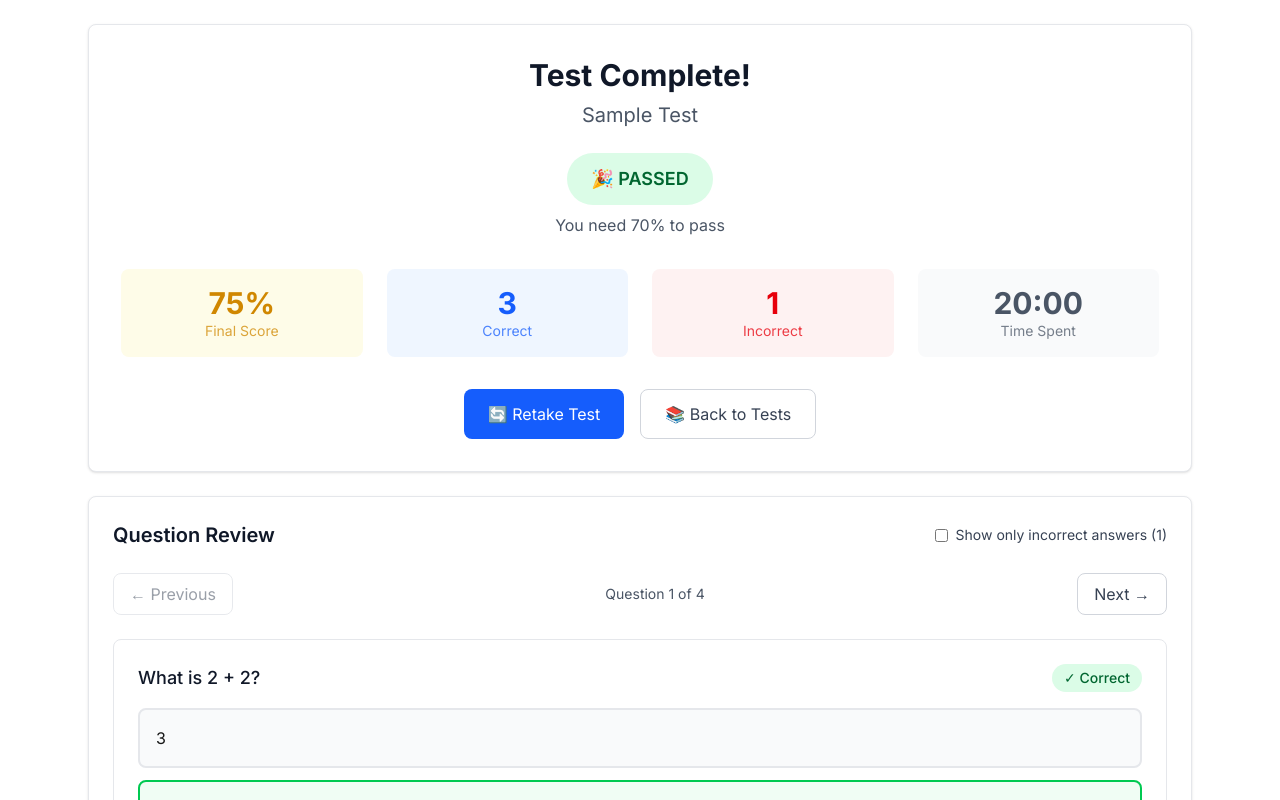
Test: TestReviewComponent › shows only incorrect answers when filter is enabled
Click the checkbox labelled "Show only incorrect answers (1)": (941, 535) x1=935 y1=528 x2=948 y2=542
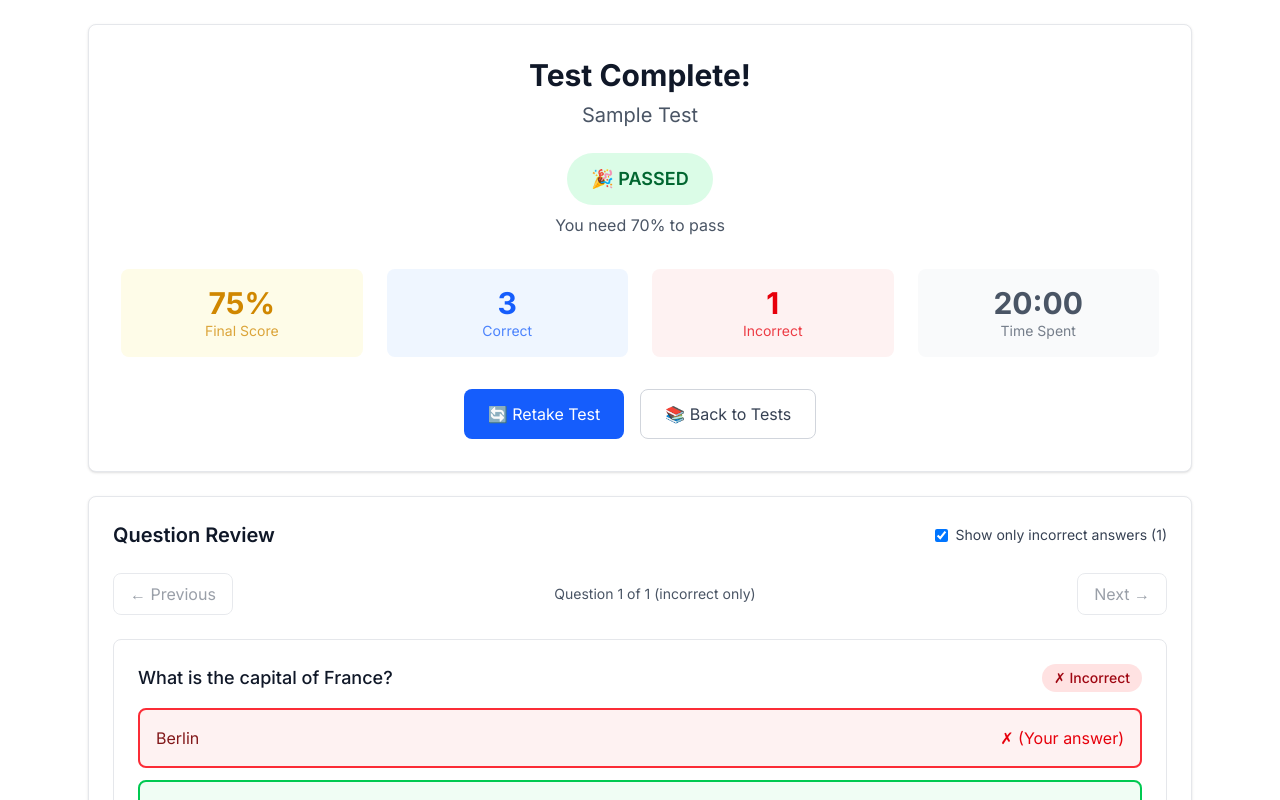
Expected: the heading "What is the capital of France?" is shown, x1=138 y1=667 x2=393 y2=688
Expected: the text "Question 1 of 1 (incorrect only)" is shown, x1=554 y1=584 x2=756 y2=604
